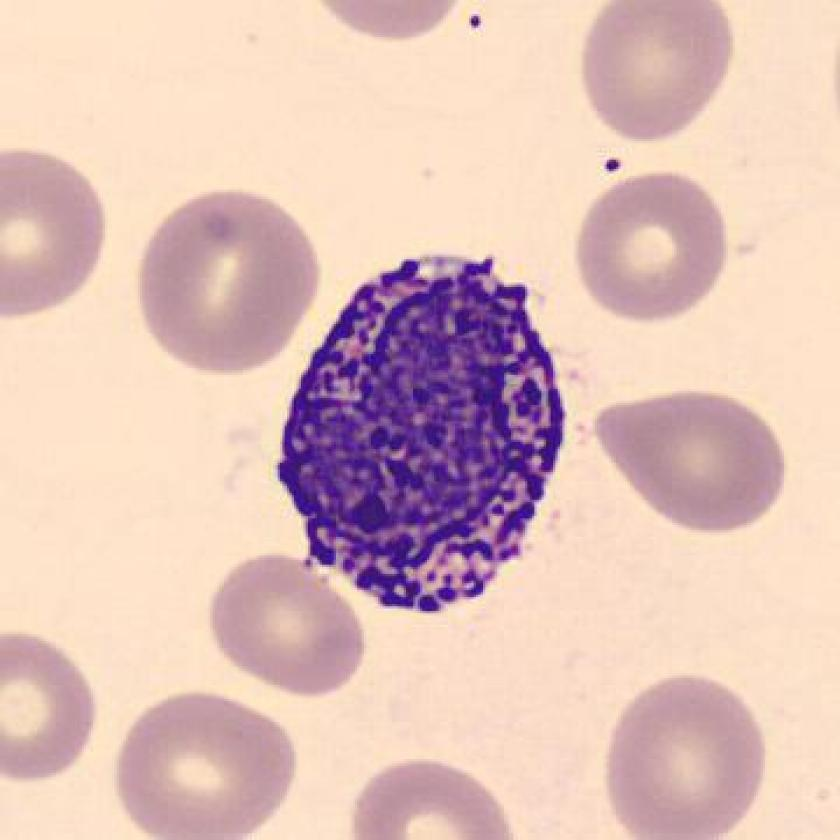basophil: (270, 246, 571, 605)
